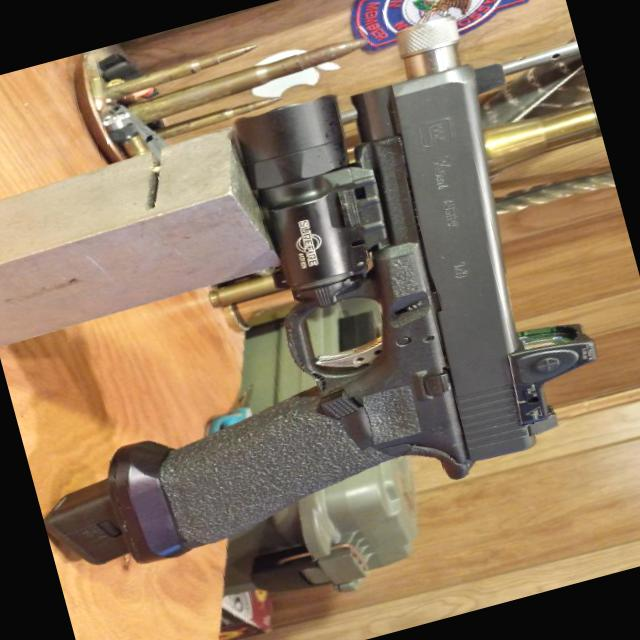handgun: (0, 43, 632, 583)
